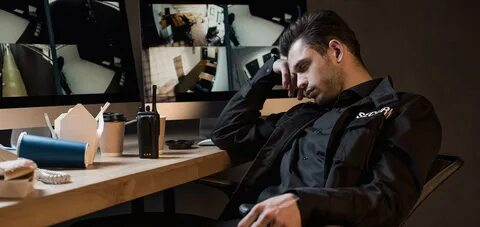sleep: (208, 8, 443, 227)
